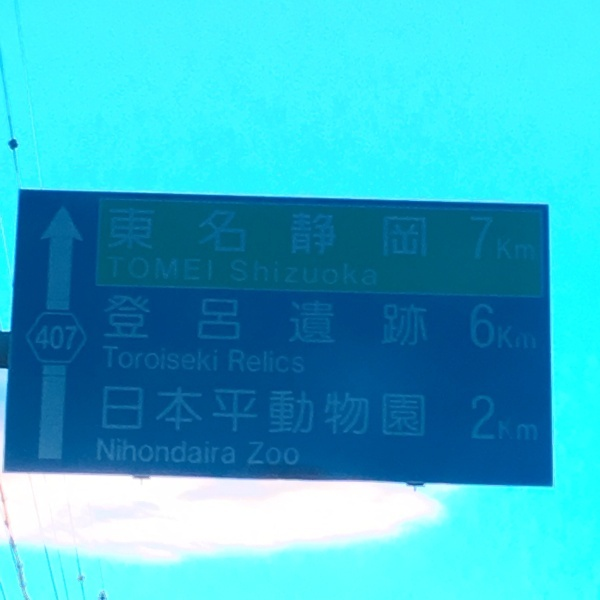text: (113, 291, 128, 352), (129, 291, 144, 352), (145, 291, 160, 352), (161, 291, 176, 352), (177, 291, 192, 352), (193, 291, 208, 352), (209, 291, 224, 352), (225, 291, 240, 352), (241, 291, 256, 352), (257, 291, 272, 352), (273, 291, 288, 352), (289, 291, 304, 352), (305, 291, 320, 352), (321, 291, 336, 352), (337, 291, 352, 352), (353, 291, 368, 352), (369, 291, 384, 352), (385, 291, 400, 352), (401, 291, 416, 352), (113, 384, 128, 444), (129, 384, 144, 444), (145, 384, 160, 444), (161, 384, 176, 444), (177, 384, 192, 444), (193, 384, 208, 444), (209, 384, 224, 444), (225, 384, 240, 444), (241, 384, 256, 444), (257, 384, 272, 444), (273, 384, 288, 444), (289, 384, 304, 444), (305, 384, 320, 444), (321, 384, 336, 444), (337, 384, 352, 444), (353, 384, 368, 444), (369, 384, 384, 444), (385, 384, 400, 444), (401, 384, 416, 444), (113, 205, 128, 262), (129, 205, 144, 262), (145, 205, 160, 262), (161, 205, 176, 262), (177, 205, 192, 262), (193, 205, 208, 262), (209, 205, 224, 262), (225, 205, 240, 262), (241, 205, 256, 262), (257, 205, 272, 262), (273, 205, 288, 262), (289, 205, 304, 262), (305, 205, 320, 262), (321, 205, 336, 262), (337, 205, 352, 262), (353, 205, 368, 262), (369, 205, 384, 262), (385, 205, 400, 262), (401, 205, 416, 262), (481, 212, 496, 269), (497, 212, 512, 269), (513, 212, 528, 269), (481, 302, 496, 358), (497, 302, 512, 358), (513, 302, 528, 358), (481, 394, 496, 449), (497, 394, 512, 449), (513, 394, 528, 449), (417, 291, 430, 352), (417, 384, 430, 444), (467, 302, 480, 358), (101, 384, 112, 444), (417, 205, 428, 262), (469, 212, 480, 269), (469, 394, 480, 449), (529, 394, 540, 449), (529, 302, 539, 358), (103, 291, 112, 352), (241, 256, 256, 292), (257, 256, 272, 292), (273, 256, 288, 292), (289, 256, 304, 292), (305, 256, 320, 292), (321, 256, 336, 292), (337, 256, 352, 292), (353, 256, 368, 292), (97, 435, 112, 471), (113, 435, 128, 471), (129, 435, 144, 471), (145, 435, 160, 471), (161, 435, 176, 471), (177, 435, 192, 471), (193, 435, 208, 471), (209, 435, 224, 471), (241, 347, 256, 381), (257, 347, 272, 381), (273, 347, 288, 381), (289, 347, 304, 381), (113, 346, 128, 379), (129, 346, 144, 379), (145, 346, 160, 379), (161, 346, 176, 379), (177, 346, 192, 379), (193, 346, 208, 379), (257, 438, 272, 471), (273, 438, 288, 471), (49, 323, 64, 355), (65, 323, 80, 355), (227, 256, 240, 292), (225, 435, 238, 471), (529, 212, 537, 269), (34, 323, 48, 355), (227, 347, 240, 381), (113, 254, 128, 283), (129, 254, 144, 283), (145, 254, 160, 283), (161, 254, 176, 283), (177, 254, 192, 283), (193, 254, 208, 283), (289, 438, 302, 471), (100, 346, 112, 379), (209, 346, 221, 379), (369, 256, 379, 292), (246, 438, 256, 471), (108, 205, 112, 262), (105, 254, 112, 283), (209, 254, 214, 283), (305, 347, 307, 381), (95, 435, 96, 471), (81, 323, 82, 355)
